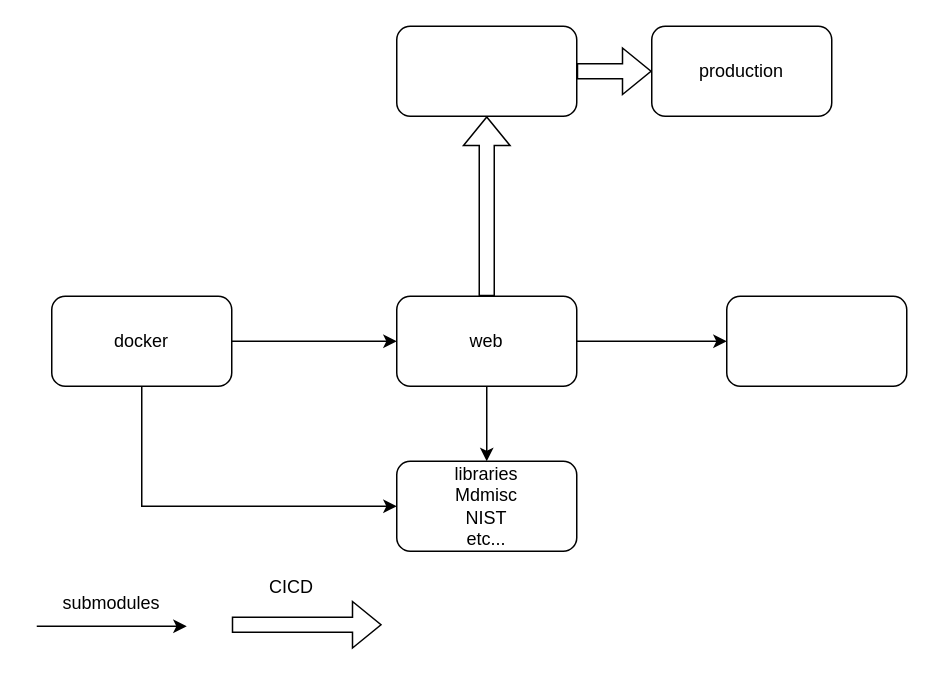
The diagram is 933 pixels wide and 675 high, and some of its shapes have lost their labels. The box of each missing label's shape, as (x1, y1, x2, y2) in pixels:
base: (395, 25, 577, 116)
cdn: (725, 295, 907, 386)
